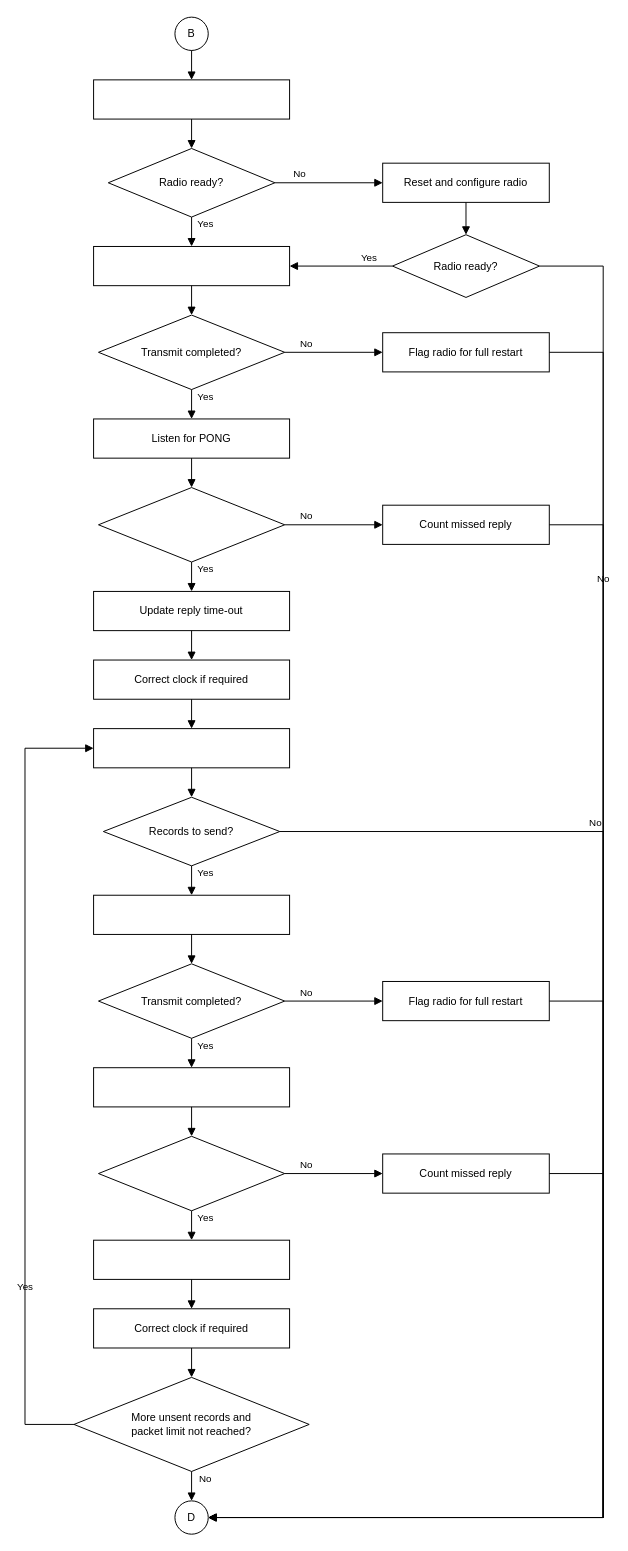
Some shapes in this 628 by 1551 pixel diagram are drawn without their labels. The shapes that lost their labels are listed below. From the top down, each one's centre as x and y in pixels, then its label:
the point at 191,99: Wake radio
the point at 191,265: Send PING
the point at 191,524: Valid PONG received?
the point at 191,748: Read oldest unsent records
the point at 191,914: Send DATA packet
the point at 191,1087: Listen for ACK
the point at 191,1173: Valid ACK received?
the point at 191,1259: Mark records as sent
